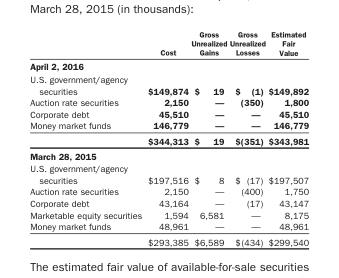table: (29, 29, 308, 246)
table column: (29, 29, 144, 246), (144, 29, 189, 246), (266, 29, 308, 246), (227, 29, 266, 246), (189, 29, 227, 246)
table column header: (29, 29, 308, 58)
table projected row header: (29, 58, 308, 72), (29, 148, 308, 162)
table row: (29, 29, 308, 58), (29, 72, 308, 96), (29, 162, 308, 185), (29, 133, 308, 148), (29, 58, 308, 72), (29, 119, 308, 133), (29, 148, 308, 162), (29, 220, 308, 233), (29, 233, 308, 246), (29, 107, 308, 119), (29, 185, 308, 197), (29, 208, 308, 220), (29, 96, 308, 107), (29, 197, 308, 208)
